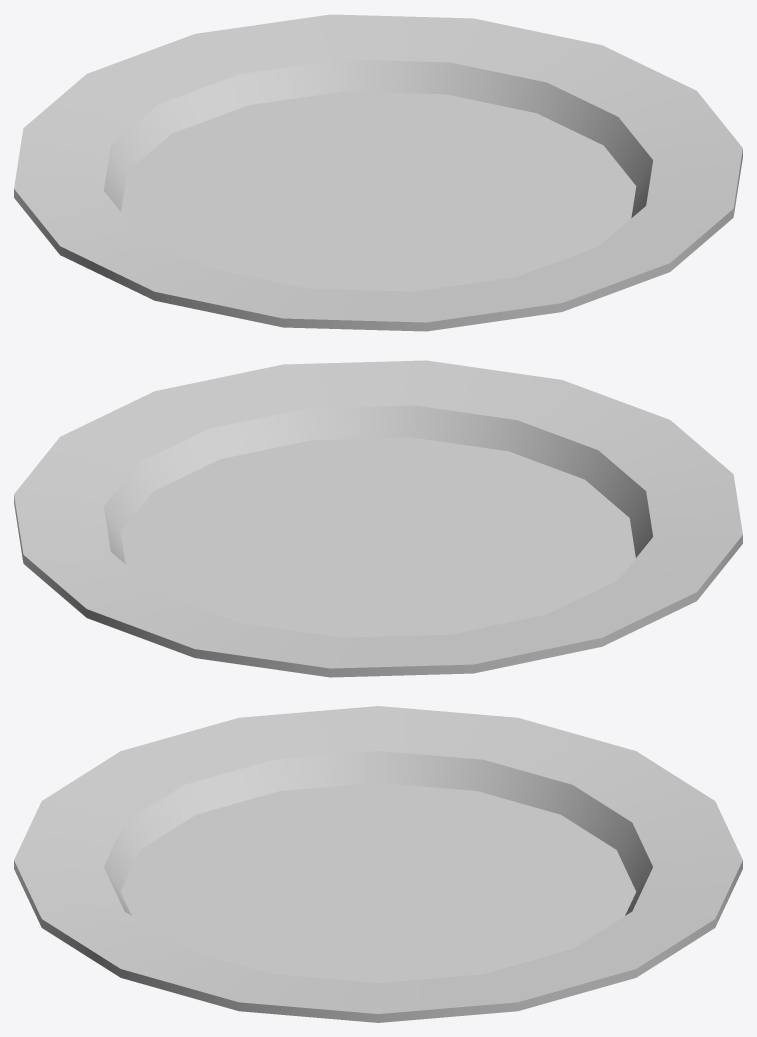
File: SaladPlate_01.fbx
3 views of the same model, one above another, from view 1: azimuth 30°, elevation 25°; view 2: azimuth 150°, elevation 25°; view 3: azimuth 270°, elevation 25° (orthographic).
Parts seen in each view (by area): view 1: SaladPlate_01; view 2: SaladPlate_01; view 3: SaladPlate_01.
Boxes of the visible parts, bbox=[...] form: SaladPlate_01: bbox=[14, 14, 742, 331]; SaladPlate_01: bbox=[14, 360, 742, 677]; SaladPlate_01: bbox=[14, 706, 742, 1022].
Size of the model in its own units: 0.1872 by 0.0116 by 0.1872.
